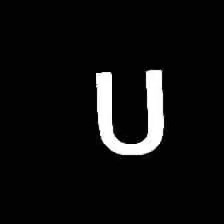LTR_U: (85, 60, 173, 160)
